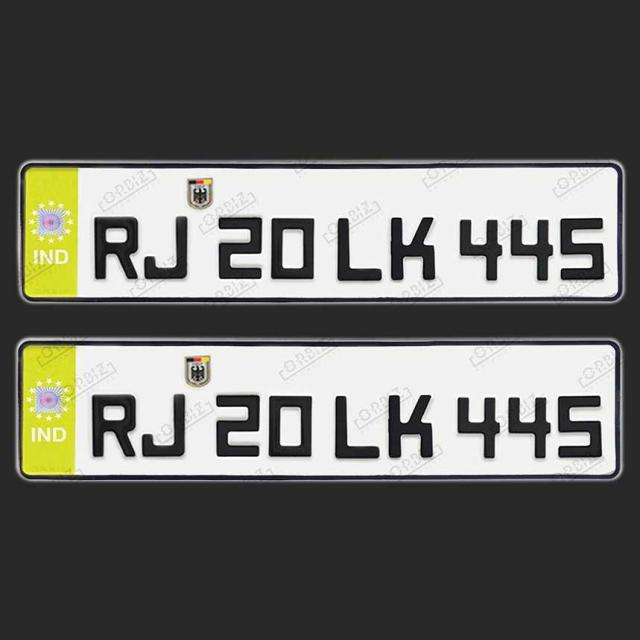plate: (14, 333, 628, 485), (20, 164, 630, 300)
